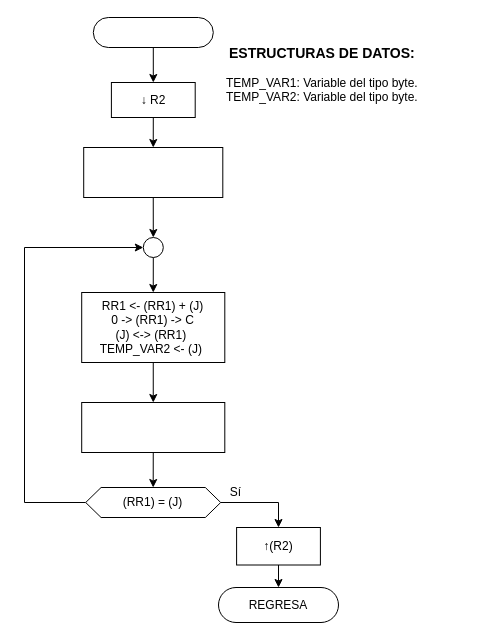
This 482x640 diagram has some shape labels left out. The centre of each missing label's shape, as x and y in pixels:
"R1 <- $0 J <- $1 TEMP_VAR1 <- (RR1)" goes at [153,172].
"RAIZ" goes at [152,32].
"RR1<- (TEMP_VAR1) J <- (RR1) / (J) RR1 <- (TEMP_VAR2)" goes at [153,427].
